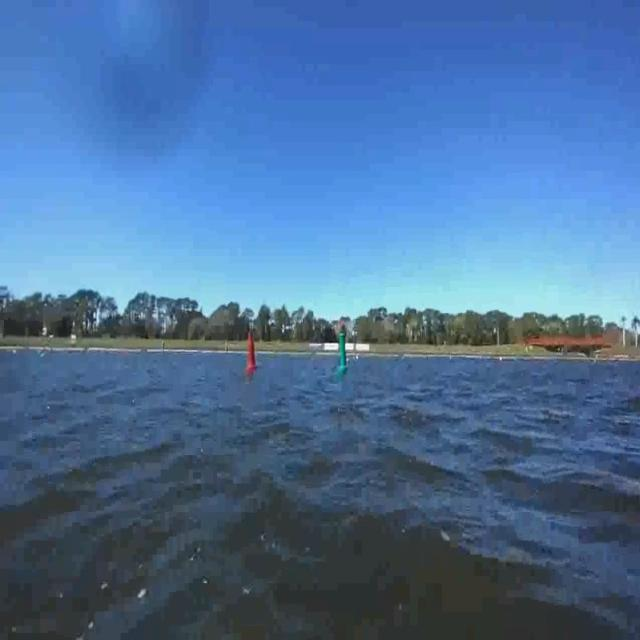green-column-buoy: (332, 336, 353, 373)
red-column-buoy: (241, 336, 264, 376)
